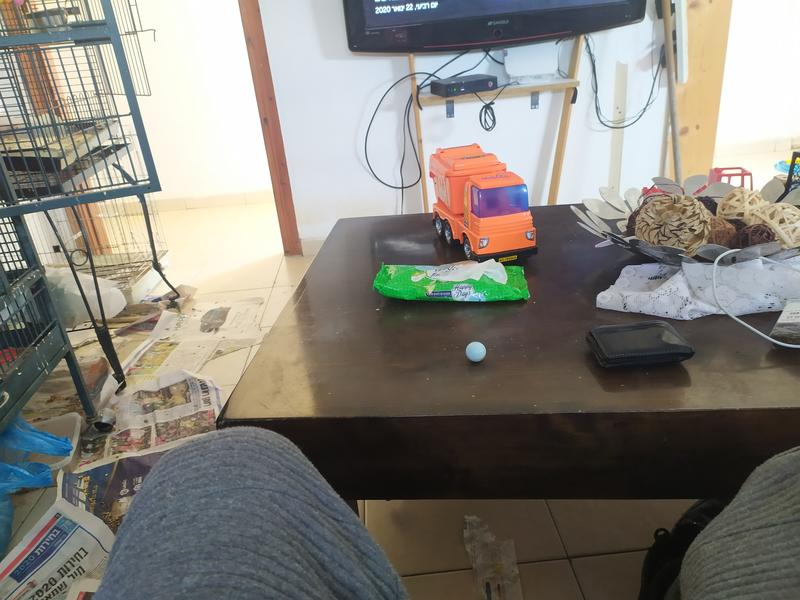Warning: (463, 340, 489, 364)
